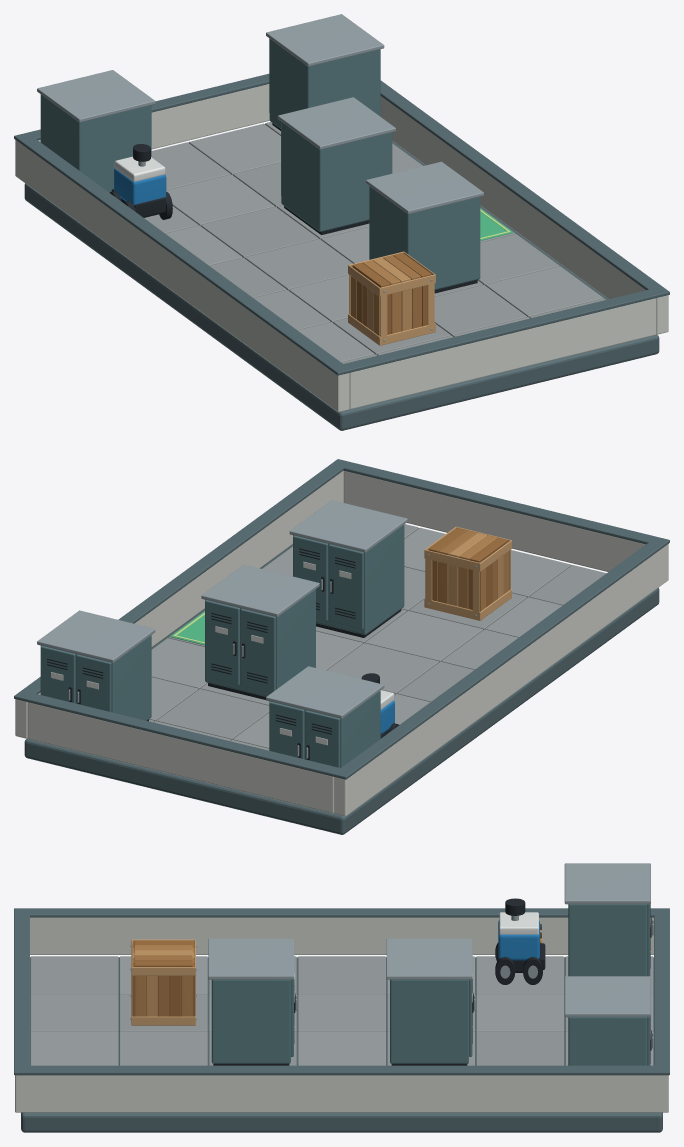
3 views of the same model, one above another, from view 1: azimuth 30°, elevation 25°; view 2: azimuth 150°, elevation 25°; view 3: azimuth 270°, elevation 25° (orthographic).
Visible parts, largest first — view 1: Cutaway wall, Floor foundation, obstacle_2, Cutaway wall.002, obstacle_1, obstacle_3, obstacle_0, Cutaway wall.001, crate, Wall coping, Wall coping.001, Cutaway wall.003 (+20 smaller); view 2: obstacle_2, Cutaway wall, Floor foundation, obstacle_1, Cutaway wall.003, Cutaway wall.002, obstacle_3, obstacle_0, crate, Cutaway wall.001, Wall coping, Wall coping.001 (+20 smaller); view 3: Cutaway wall.001, Cutaway wall, Floor foundation, obstacle_1, obstacle_2, obstacle_0, obstacle_3, Wall coping.001, crate, Wall coping, agent, Tile_1_0 (+13 smaller).
Boxes of the visible parts, x1=… form: Cutaway wall: x1=15, y1=140, x2=349, y2=412; Floor foundation: x1=24, y1=124, x2=659, y2=430; obstacle_2: x1=277, y1=97, x2=395, y2=234; Cutaway wall.002: x1=349, y1=298, x2=656, y2=409; obstacle_1: x1=365, y1=161, x2=483, y2=293; obstacle_3: x1=266, y1=14, x2=384, y2=130; obstacle_0: x1=37, y1=70, x2=155, y2=192; Cutaway wall.001: x1=380, y1=96, x2=668, y2=334; crate: x1=348, y1=251, x2=435, y2=345; Wall coping: x1=14, y1=133, x2=350, y2=375; Wall coping.001: x1=380, y1=80, x2=669, y2=297; Cutaway wall.003: x1=38, y1=84, x2=269, y2=149; obstacle_2: x1=201, y1=564, x2=319, y2=699; Cutaway wall: x1=334, y1=544, x2=668, y2=816; Floor foundation: x1=24, y1=528, x2=659, y2=834; obstacle_1: x1=289, y1=500, x2=407, y2=637; Cutaway wall.003: x1=27, y1=702, x2=334, y2=813; Cutaway wall.002: x1=343, y1=471, x2=645, y2=571; obstacle_3: x1=37, y1=610, x2=155, y2=721; obstacle_0: x1=266, y1=666, x2=384, y2=767; crate: x1=424, y1=526, x2=511, y2=620; Cutaway wall.001: x1=15, y1=471, x2=343, y2=738; Wall coping: x1=333, y1=537, x2=669, y2=779; Wall coping.001: x1=14, y1=459, x2=349, y2=701; Cutaway wall.001: x1=15, y1=1075, x2=668, y2=1112; Cutaway wall: x1=30, y1=917, x2=653, y2=954; Floor foundation: x1=21, y1=957, x2=662, y2=1132; obstacle_1: x1=208, y1=938, x2=297, y2=1065; obstacle_2: x1=386, y1=938, x2=475, y2=1065; obstacle_0: x1=564, y1=863, x2=653, y2=976; obstacle_3: x1=564, y1=976, x2=653, y2=1065; Wall coping.001: x1=14, y1=1065, x2=669, y2=1075; crate: x1=130, y1=939, x2=196, y2=1025; Wall coping: x1=14, y1=908, x2=669, y2=917; agent: x1=495, y1=898, x2=545, y2=984; Tile_1_0: x1=30, y1=994, x2=118, y2=1031.
Bounding box in the file's own units: 4.36 × 1.44 × 7.36.
